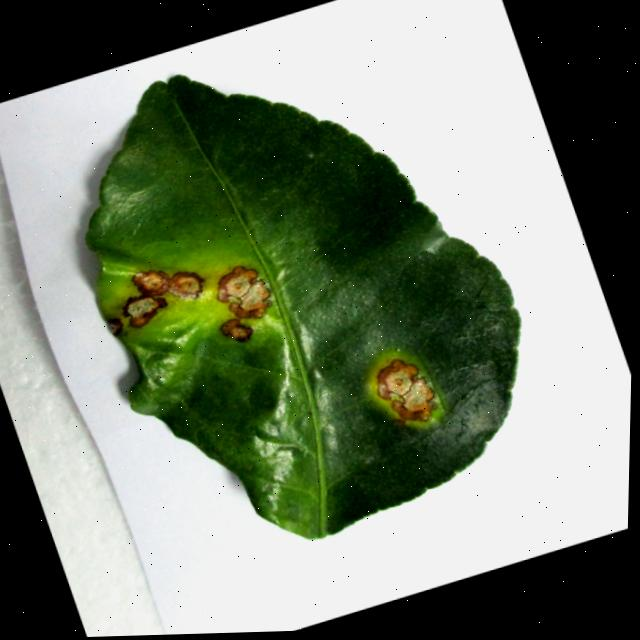antracnose: (86, 74, 518, 538), (376, 358, 436, 420), (217, 264, 270, 317), (124, 295, 166, 326), (132, 269, 170, 295), (168, 271, 203, 297), (220, 318, 253, 341), (107, 317, 122, 335)
